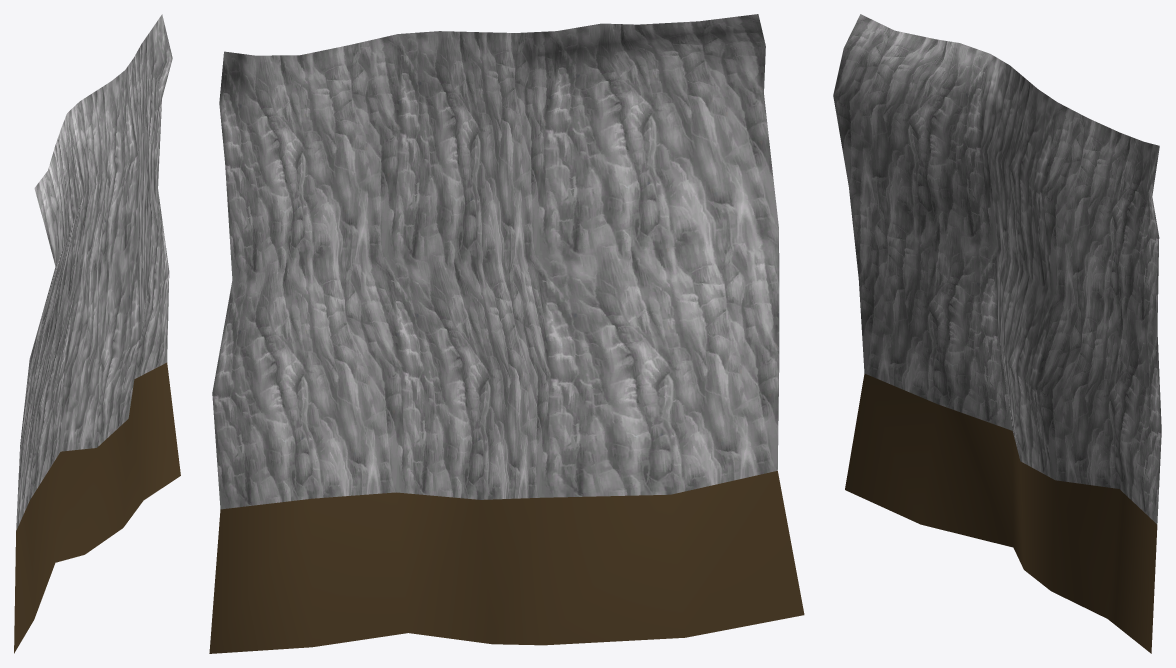
The model's file is SWORDLIGHT20_PS-AREA03_08.fbx.
3 views of the same model, side by side, from view 1: azimuth 30°, elevation 25°; view 2: azimuth 150°, elevation 25°; view 3: azimuth 270°, elevation 25° (orthographic). The views are drawn at different scales.
Visible parts, largest first — view 1: SWORDLIGHT20_PS-AREA03_08; view 2: SWORDLIGHT20_PS-AREA03_08; view 3: SWORDLIGHT20_PS-AREA03_08.
Boxes of the visible parts, x1,y1,x2,y2 form: SWORDLIGHT20_PS-AREA03_08: (14, 14, 180, 653); SWORDLIGHT20_PS-AREA03_08: (209, 14, 804, 653); SWORDLIGHT20_PS-AREA03_08: (833, 14, 1161, 653).
Size of the model in its own units: 137298 by 198580 by 117015.
2 materials, 2 textured.
